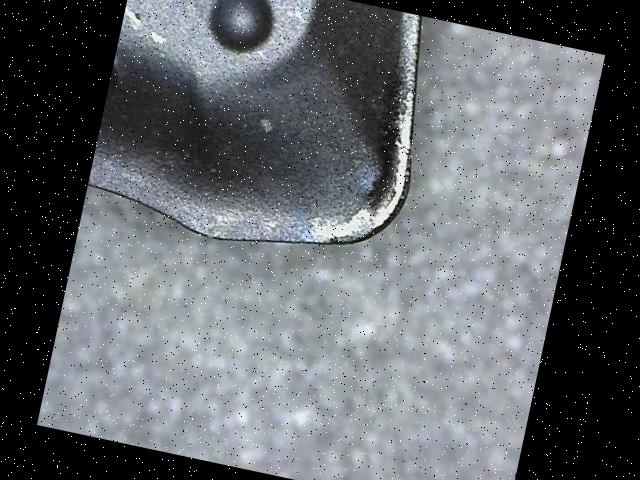normal: (88, 162, 310, 242), (391, 11, 417, 124)
wear: (311, 97, 412, 243)
